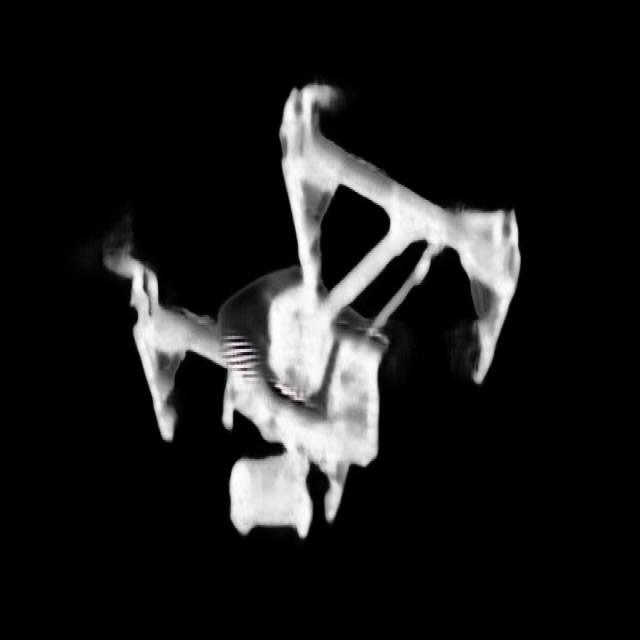drone: (97, 70, 526, 548)
